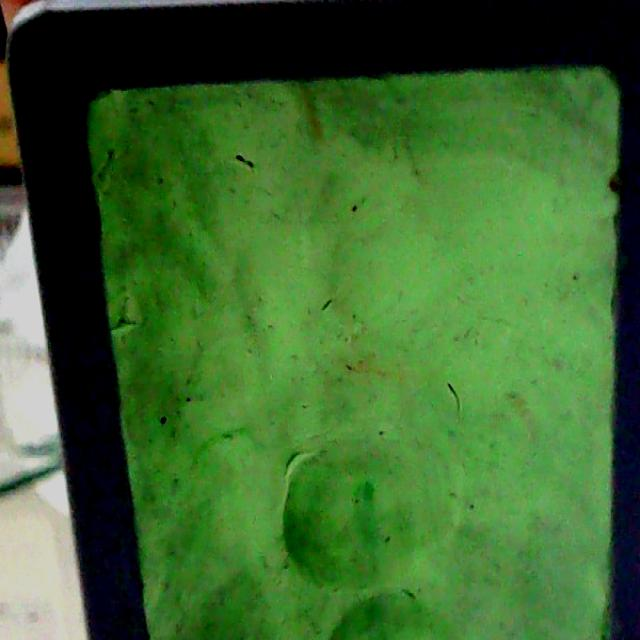block: (10, 0, 640, 608)
